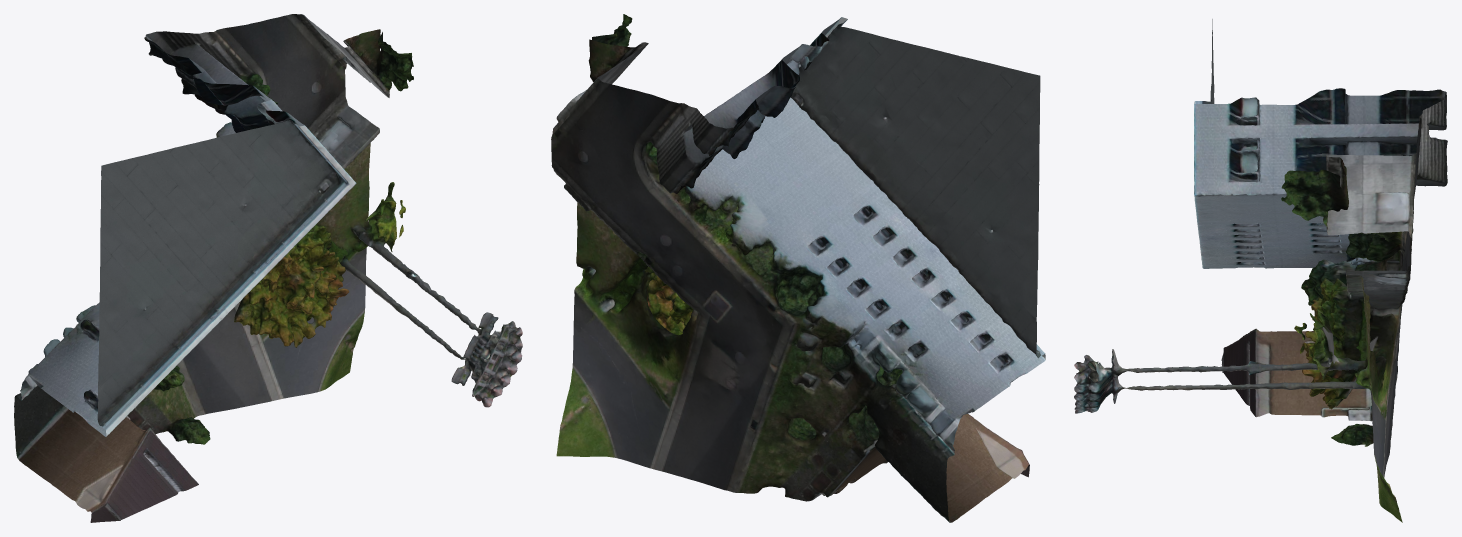
File: Tile_+015_+014.fbx
3 views of the same model, side by side, from view 1: azimuth 30°, elevation 25°; view 2: azimuth 150°, elevation 25°; view 3: azimuth 270°, elevation 25° (orthographic). The views are drawn at different scales.
Visible parts, largest first — view 1: DefaultName; view 2: DefaultName; view 3: DefaultName.
Part boxes in pixels (x1,y1,x2,y2): DefaultName: (14,14,522,522); DefaultName: (551,14,1045,522); DefaultName: (1074,19,1447,522).
Bounding box in the file's own units: 22.54 × 22.54 × 22.
